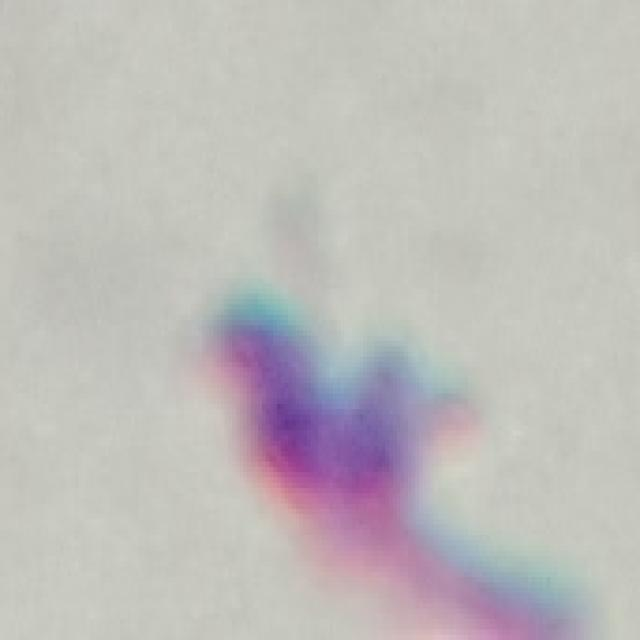non-sperm: (208, 288, 442, 562)
